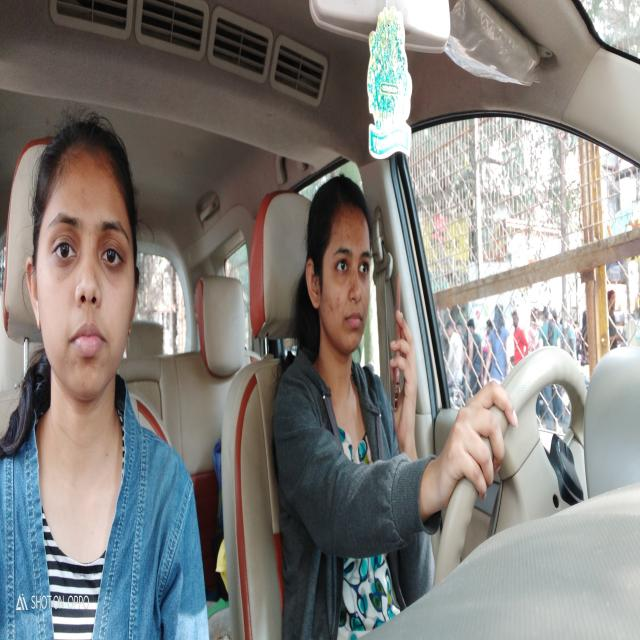mobile: (390, 260, 406, 415)
person: (27, 112, 142, 397), (302, 174, 373, 368)
